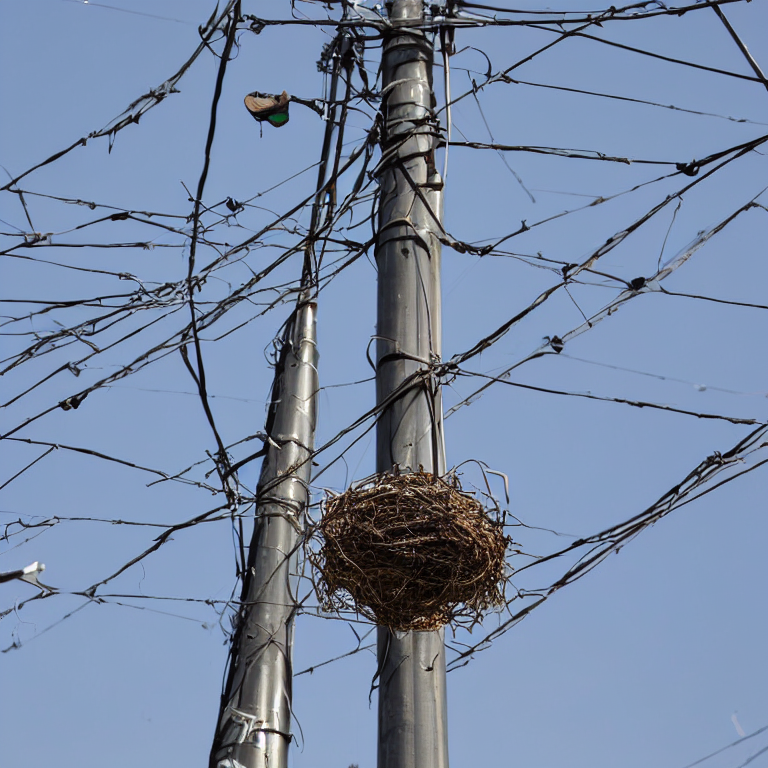nest: (330, 483, 508, 629)
